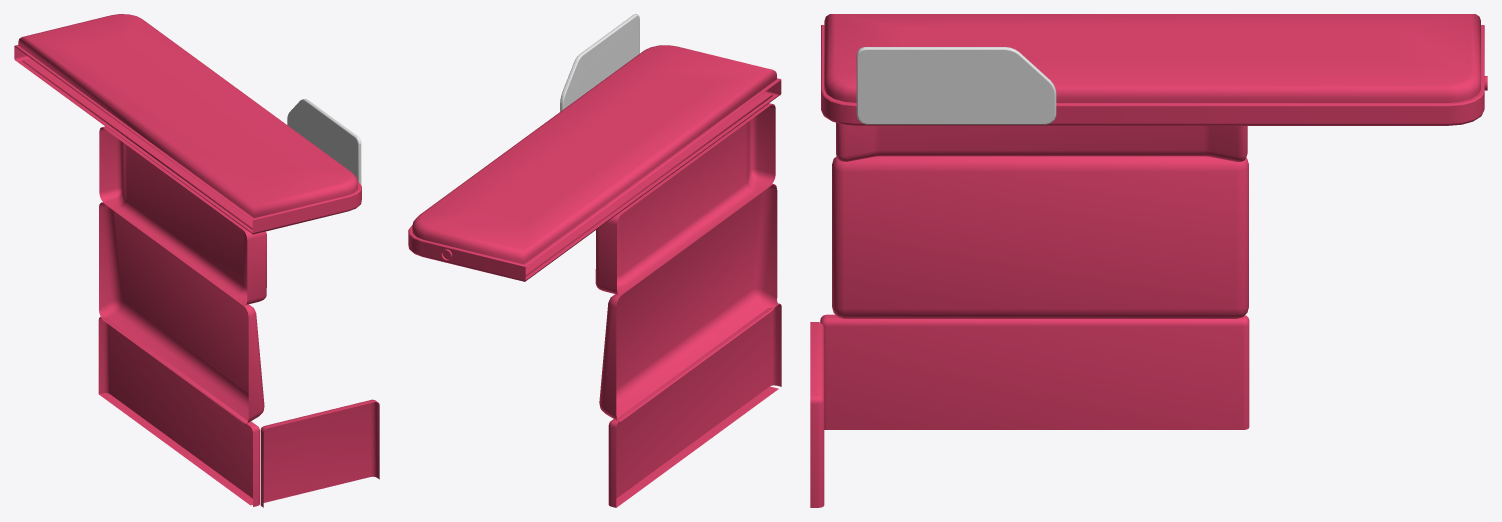
Rendered from Vagon_Stateroom_ConductRoom_Furniture_01.fbx.
3 views of the same model, side by side, from view 1: azimuth 30°, elevation 25°; view 2: azimuth 150°, elevation 25°; view 3: azimuth 270°, elevation 25° (orthographic). The views are drawn at different scales.
Visible parts, largest first — view 1: Vagon_Stateroom_ConductRoom_Furniture_01; view 2: Vagon_Stateroom_ConductRoom_Furniture_01; view 3: Vagon_Stateroom_ConductRoom_Furniture_01.
Boxes of the visible parts, <box> form: Vagon_Stateroom_ConductRoom_Furniture_01: <box>14,14,379,507</box>; Vagon_Stateroom_ConductRoom_Furniture_01: <box>408,14,781,507</box>; Vagon_Stateroom_ConductRoom_Furniture_01: <box>810,14,1487,507</box>.
Bounding box in the file's own units: 0.5437 × 1.39 × 1.86.
